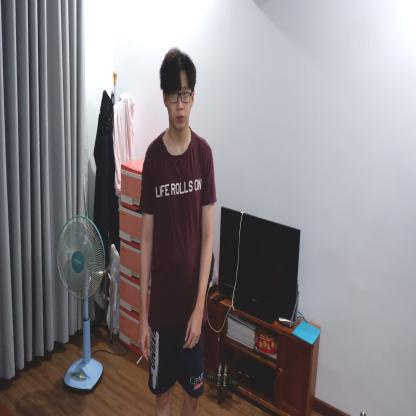cigarette: (135, 354, 144, 366)
person: (138, 43, 217, 416)
